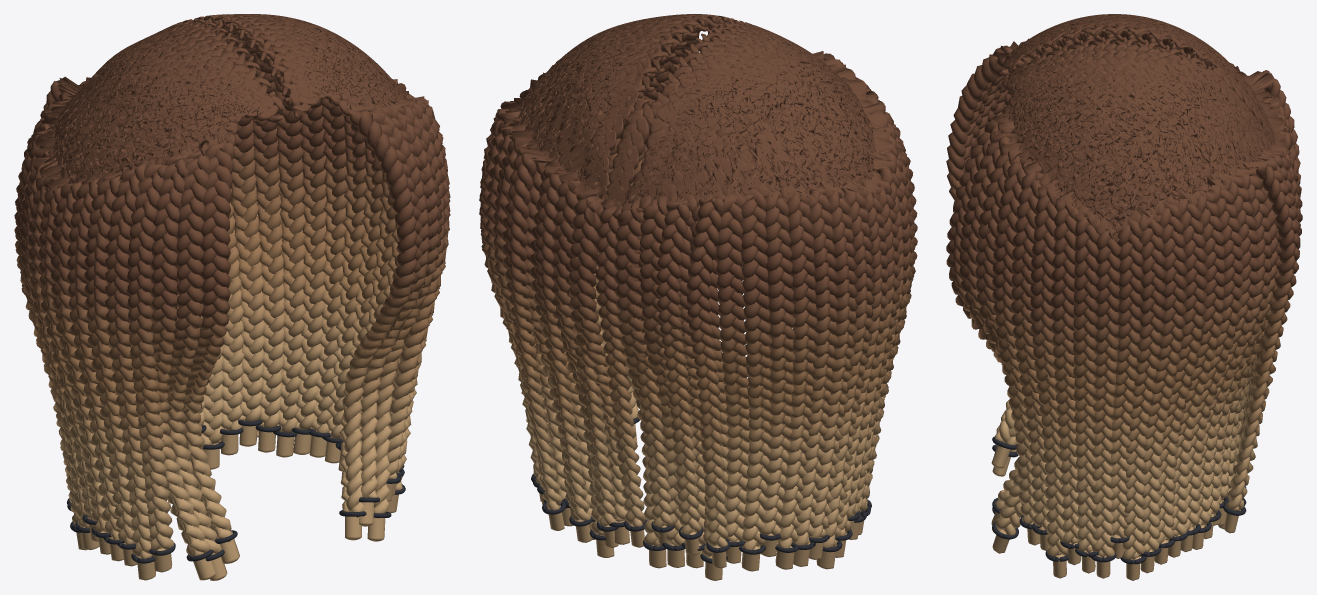
File: Ombre-e68e7167ff91253-hair.glb
3 views of the same model, side by side, from view 1: azimuth 30°, elevation 25°; view 2: azimuth 150°, elevation 25°; view 3: azimuth 270°, elevation 25° (orthographic). The views are drawn at different scales.
Parts seen in each view (by area): view 1: 226 hair / Hair / chestnut226.002, 226 hair / Hair / ties226.002; view 2: 226 hair / Hair / chestnut226.002, 226 hair / Hair / ties226.002; view 3: 226 hair / Hair / chestnut226.002, 226 hair / Hair / ties226.002.
Part boxes in pixels (box(x1,y1,x2,y2)): 226 hair / Hair / chestnut226.002: box(14, 14, 450, 580); 226 hair / Hair / ties226.002: box(67, 419, 405, 563); 226 hair / Hair / chestnut226.002: box(479, 14, 917, 580); 226 hair / Hair / ties226.002: box(531, 417, 871, 563); 226 hair / Hair / chestnut226.002: box(946, 14, 1302, 580); 226 hair / Hair / ties226.002: box(992, 436, 1246, 564).
Size of the model in its own units: 1.07 by 1.3 by 0.8719.
Materials: 2 (1 with a texture image).
